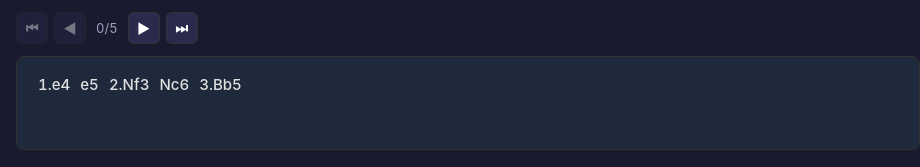
Test: <InlinePgnViewer> › кнопка next перемещает на следующий ply, last — в конец
Click the button with test id "inline-pgn-viewer-next". click: (144, 28)
box: [128,12,160,44]
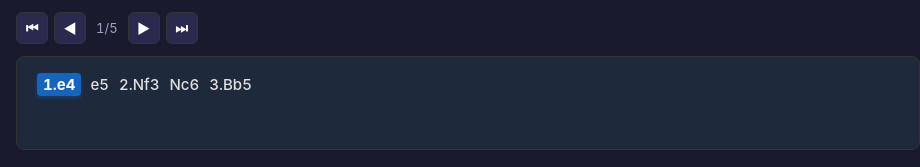
Now the text with test id "inline-pgn-viewer-counter" reads "1/5", box [96,20,118,36]
Click the button with test id "inline-pgn-viewer-last". click: (182, 28)
box: [166,12,198,44]
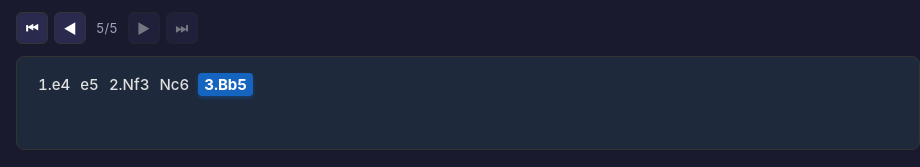
Now the text with test id "inline-pgn-viewer-counter" reads "5/5", box [96,20,118,36]
Now the button with test id "inline-pgn-viewer-next" is disabled, box [128,12,160,44]
Now the button with test id "inline-pgn-viewer-last" is disabled, box [166,12,198,44]
